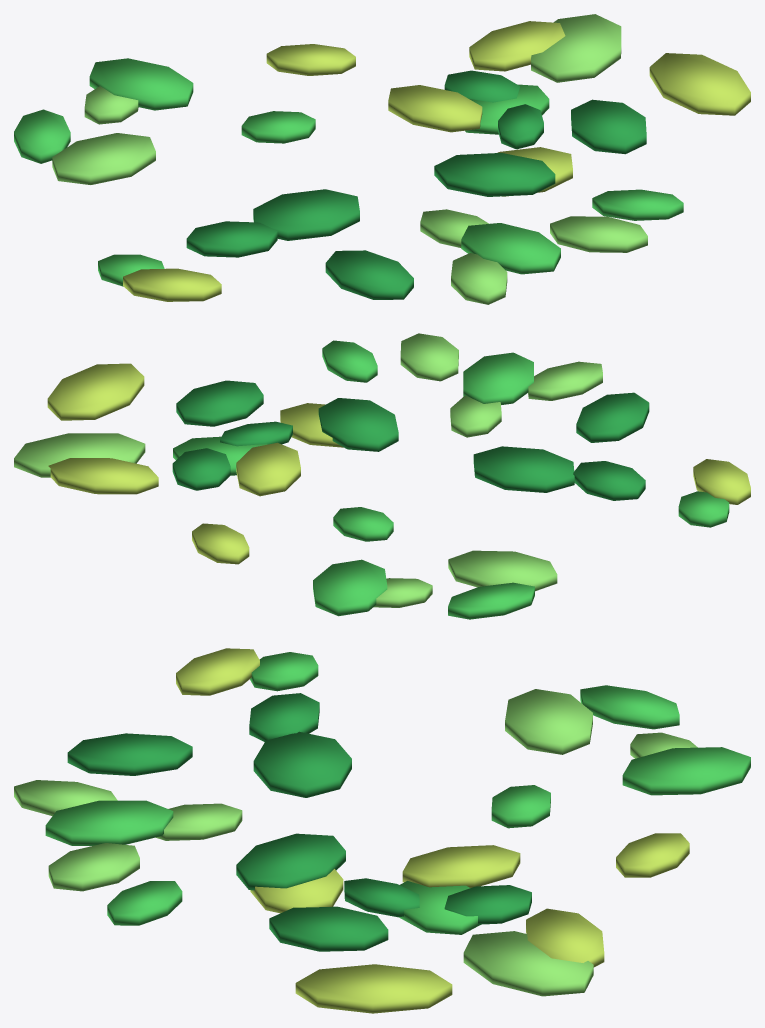
File: FTF_Nature_Duckweed_Patch.glb
The picture shows the model from 3 angles, top to bottom: view 1: azimuth 30°, elevation 25°; view 2: azimuth 150°, elevation 25°; view 3: azimuth 270°, elevation 25°; orthographic projection. The views are drawn at different scales.
Parts seen in each view (by area): view 1: Duckweed_Leaf_11, Duckweed_Leaf_14, Duckweed_Leaf_20, Duckweed_Leaf_24, Duckweed_Leaf_22, Duckweed_Leaf_01, Duckweed_Leaf_21, Duckweed_Leaf_15, Duckweed_Leaf_12, Duckweed_Leaf_16, Duckweed_Leaf_07, Duckweed_Leaf_06 (+14 smaller); view 2: Duckweed_Leaf_11, Duckweed_Leaf_24, Duckweed_Leaf_14, Duckweed_Leaf_20, Duckweed_Leaf_22, Duckweed_Leaf_07, Duckweed_Leaf_01, Duckweed_Leaf_12, Duckweed_Leaf_21, Duckweed_Leaf_16, Duckweed_Leaf_15, Duckweed_Leaf_17 (+14 smaller); view 3: Duckweed_Leaf_11, Duckweed_Leaf_14, Duckweed_Leaf_01, Duckweed_Leaf_24, Duckweed_Leaf_21, Duckweed_Leaf_22, Duckweed_Leaf_20, Duckweed_Leaf_12, Duckweed_Leaf_16, Duckweed_Leaf_15, Duckweed_Leaf_06, Duckweed_Leaf_07 (+14 smaller).
Boxes of the visible parts, x1=… form: Duckweed_Leaf_11: x1=649, y1=53, x2=750, y2=115; Duckweed_Leaf_14: x1=531, y1=14, x2=621, y2=82; Duckweed_Leaf_20: x1=434, y1=153, x2=555, y2=196; Duckweed_Leaf_24: x1=253, y1=189, x2=359, y2=240; Duckweed_Leaf_22: x1=52, y1=133, x2=155, y2=184; Duckweed_Leaf_01: x1=89, y1=58, x2=193, y2=110; Duckweed_Leaf_21: x1=461, y1=223, x2=560, y2=274; Duckweed_Leaf_15: x1=388, y1=85, x2=482, y2=132; Duckweed_Leaf_12: x1=571, y1=99, x2=646, y2=154; Duckweed_Leaf_16: x1=325, y1=250, x2=413, y2=299; Duckweed_Leaf_07: x1=469, y1=21, x2=565, y2=71; Duckweed_Leaf_06: x1=550, y1=216, x2=647, y2=252; Duckweed_Leaf_11: x1=47, y1=363, x2=144, y2=420; Duckweed_Leaf_24: x1=473, y1=446, x2=574, y2=492; Duckweed_Leaf_14: x1=14, y1=433, x2=145, y2=477; Duckweed_Leaf_20: x1=318, y1=398, x2=398, y2=451; Duckweed_Leaf_22: x1=448, y1=550, x2=557, y2=591; Duckweed_Leaf_07: x1=48, y1=458, x2=158, y2=494; Duckweed_Leaf_01: x1=313, y1=559, x2=387, y2=616; Duckweed_Leaf_12: x1=176, y1=380, x2=263, y2=426; Duckweed_Leaf_21: x1=463, y1=352, x2=533, y2=404; Duckweed_Leaf_16: x1=576, y1=392, x2=649, y2=442; Duckweed_Leaf_15: x1=236, y1=442, x2=300, y2=496; Duckweed_Leaf_17: x1=448, y1=582, x2=534, y2=619; Duckweed_Leaf_11: x1=295, y1=964, x2=452, y2=1013; Duckweed_Leaf_14: x1=463, y1=931, x2=593, y2=996; Duckweed_Leaf_01: x1=622, y1=747, x2=750, y2=795; Duckweed_Leaf_24: x1=253, y1=731, x2=351, y2=797; Duckweed_Leaf_21: x1=45, y1=800, x2=173, y2=845; Duckweed_Leaf_22: x1=505, y1=689, x2=592, y2=754; Duckweed_Leaf_20: x1=236, y1=833, x2=345, y2=890; Duckweed_Leaf_12: x1=269, y1=906, x2=388, y2=951; Duckweed_Leaf_16: x1=67, y1=733, x2=192, y2=775; Duckweed_Leaf_15: x1=402, y1=845, x2=520, y2=887; Duckweed_Leaf_06: x1=48, y1=843, x2=139, y2=891; Duckweed_Leaf_07: x1=526, y1=908, x2=604, y2=967.
Size of the model in its own units: 1.04 by 0.0299 by 0.899.
